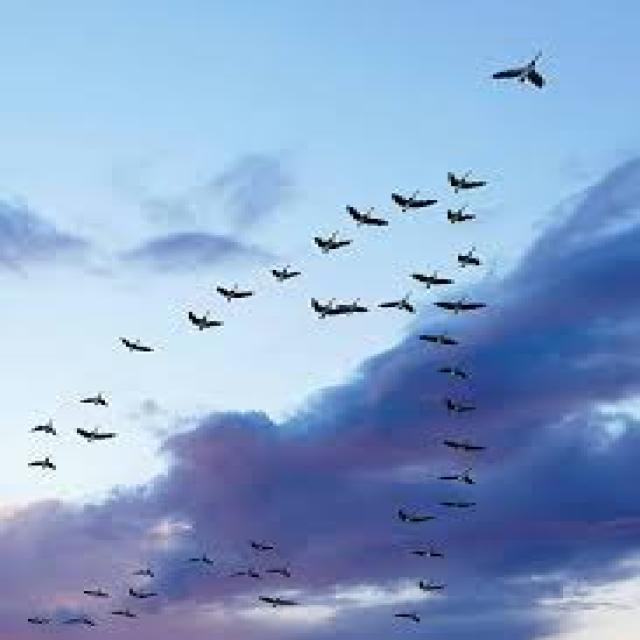bird: (465, 42, 577, 95), (376, 180, 453, 218), (174, 301, 256, 334), (334, 202, 397, 244), (430, 291, 500, 328), (423, 463, 500, 494), (16, 444, 82, 480), (438, 162, 506, 196), (294, 224, 354, 258), (365, 290, 425, 324), (337, 294, 383, 338), (203, 276, 266, 308), (72, 421, 134, 452), (402, 266, 465, 294), (418, 330, 474, 360), (451, 241, 497, 276), (409, 572, 465, 600), (114, 331, 176, 356), (390, 604, 439, 634), (388, 507, 444, 533), (444, 436, 504, 459), (22, 410, 62, 444), (441, 397, 486, 427), (260, 257, 310, 283), (409, 543, 458, 569), (300, 291, 332, 328), (180, 546, 229, 570), (77, 390, 119, 416), (12, 607, 54, 633), (438, 368, 484, 391), (444, 207, 486, 231), (128, 584, 170, 608), (233, 562, 278, 583), (117, 562, 166, 581), (255, 591, 298, 610), (238, 534, 276, 555), (112, 606, 147, 625), (266, 564, 301, 581), (77, 582, 112, 598), (446, 496, 474, 514), (70, 616, 105, 630)
